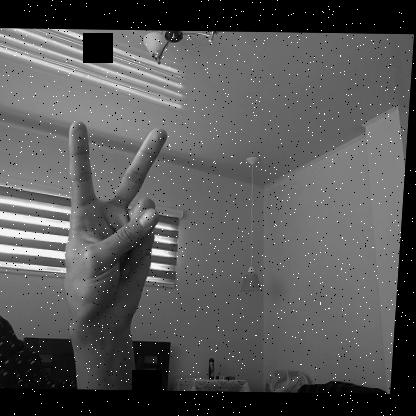V: (60, 117, 173, 335)
